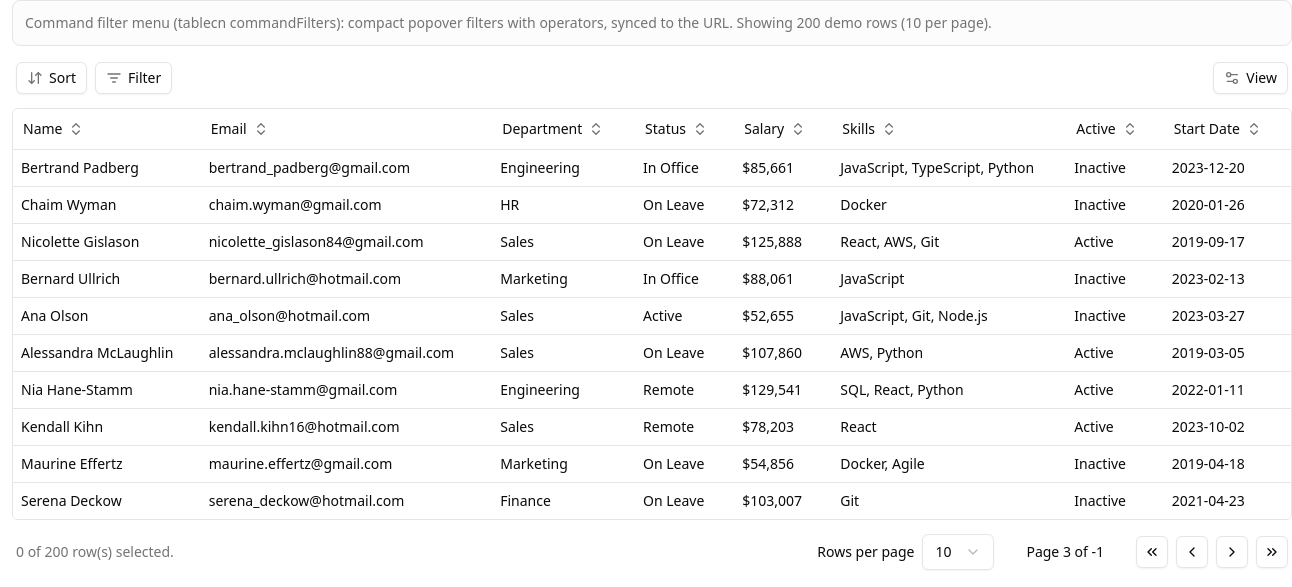
Test: data-table-showcase.svelte › should update single select filter state when changing options
The width and height of the screenshot is (1292, 587).
Click the button with aria-label "Open filter command menu".
click(134, 78)  # box [95,62,172,94]
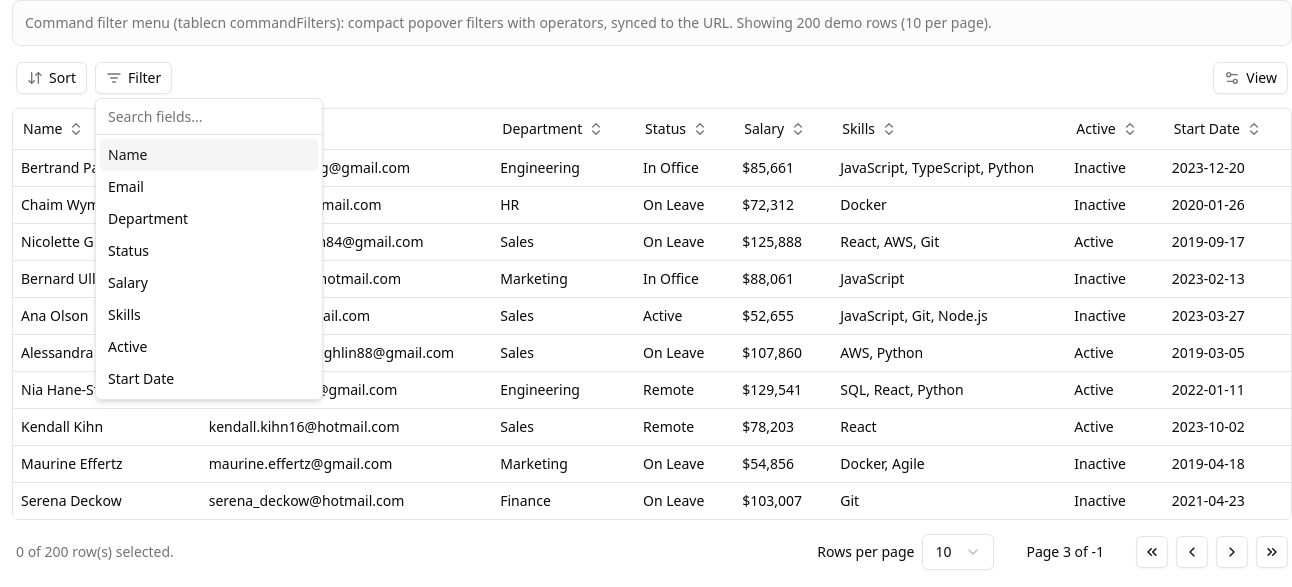
Click the option "Department".
click(148, 218)  # box [108,209,188,228]
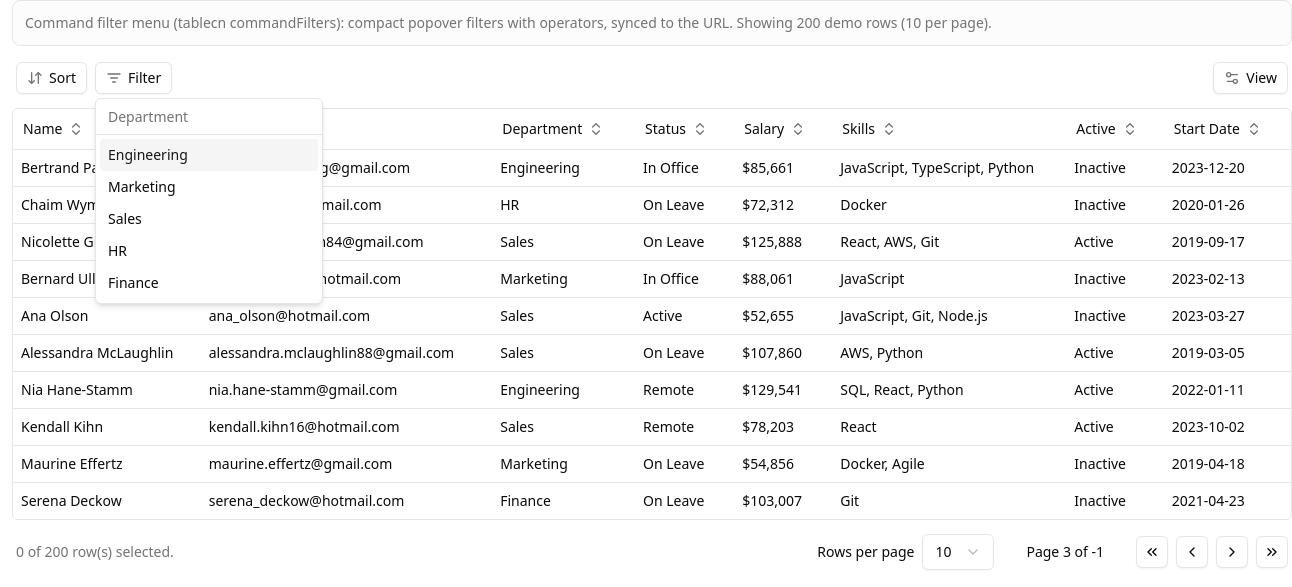
Click the option "Engineering".
click(209, 155)  # box [100,139,318,171]
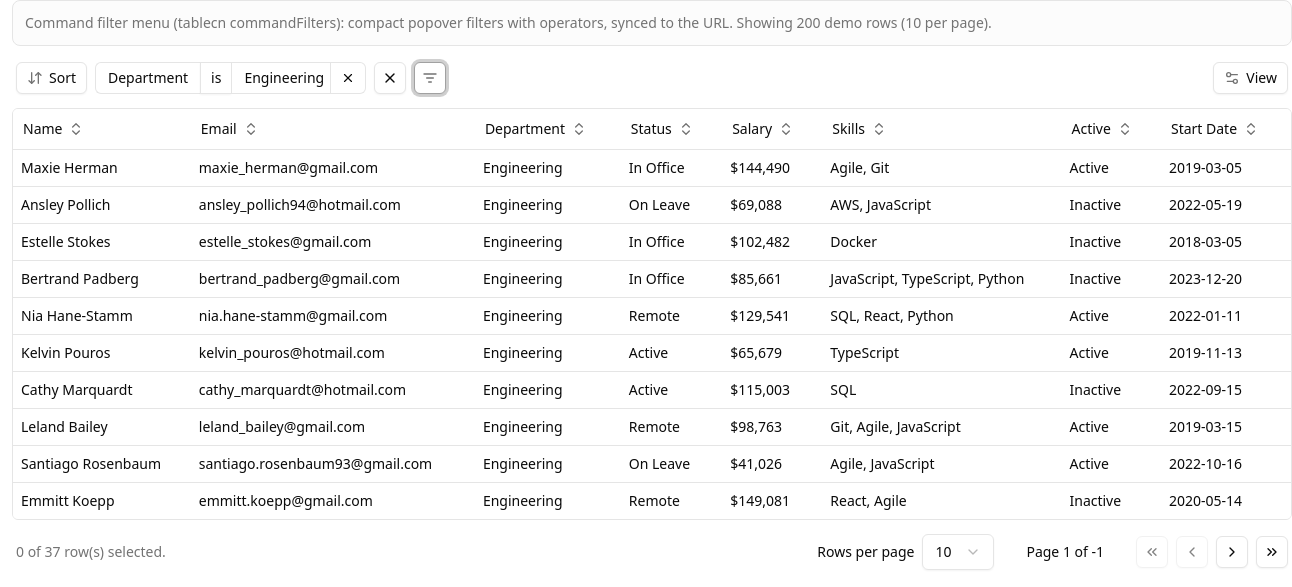
Check: the text "Engineering" is shown, box [244,68,324,88]
Click the button with aria-label "Change Department value".
click(281, 78)  # box [231,62,331,94]
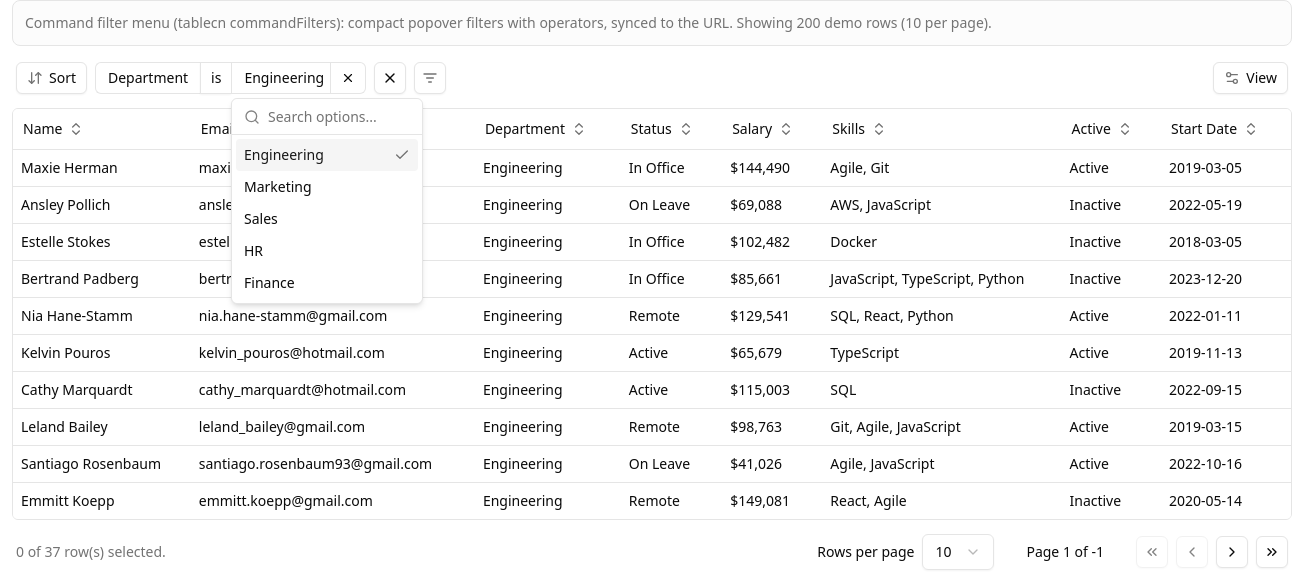
Click the option "Finance".
click(269, 282)  # box [244,273,295,292]
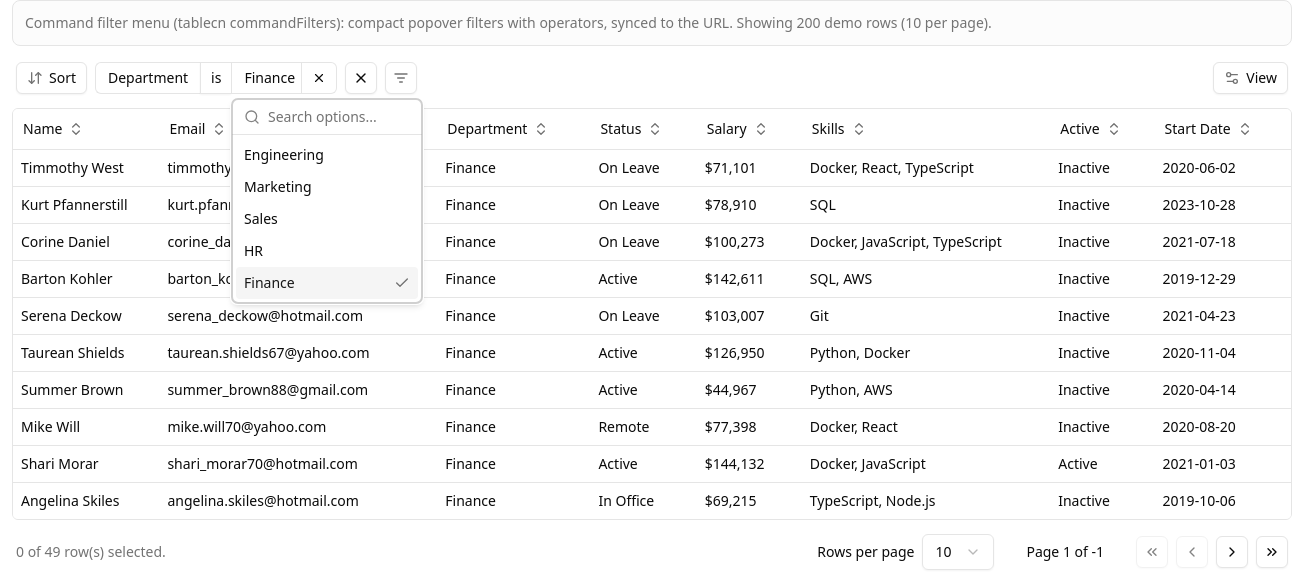
Check: the 1st text "Finance" is shown, box [244,68,295,88]
